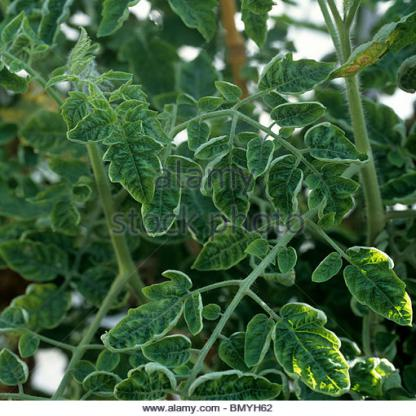tomato leaf yellow virus: (270, 299, 376, 407), (103, 269, 215, 357), (340, 233, 415, 340), (104, 108, 170, 216), (76, 361, 193, 410), (198, 143, 258, 237), (139, 164, 187, 247), (300, 122, 387, 167), (261, 153, 310, 230), (188, 220, 258, 271), (232, 312, 288, 371), (68, 108, 123, 151), (241, 133, 288, 179), (276, 98, 336, 129)
